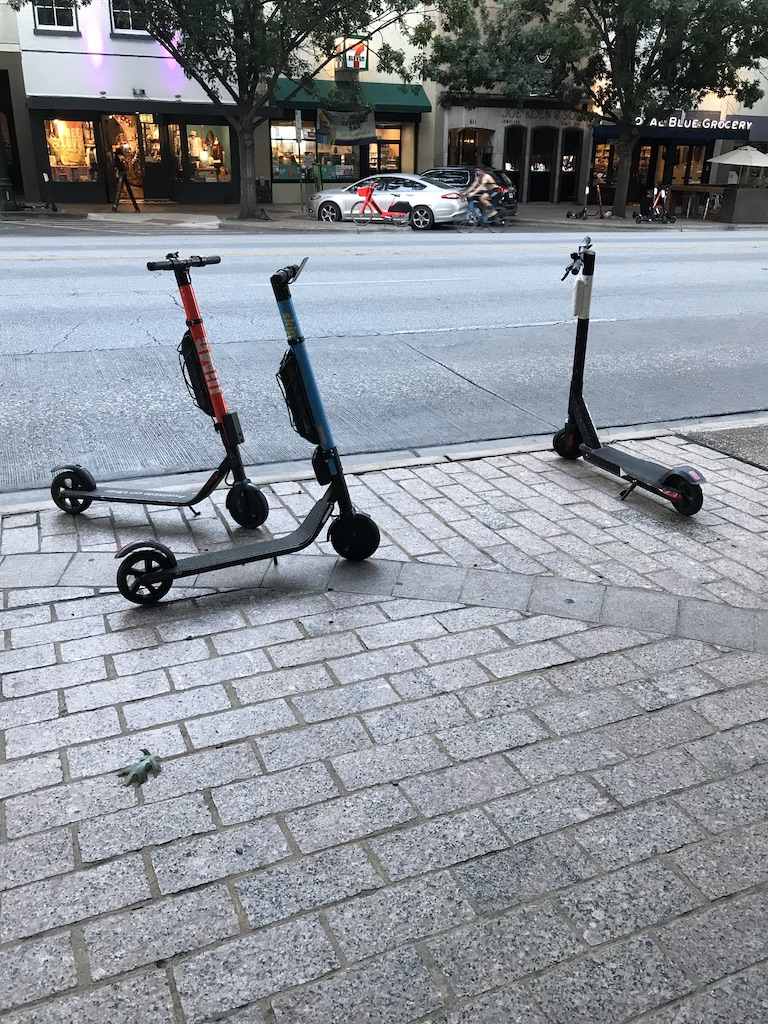scooter: (117, 258, 382, 604), (52, 254, 271, 529), (554, 236, 706, 518), (18, 168, 61, 214), (632, 186, 675, 224), (567, 185, 590, 220), (592, 185, 605, 219)
